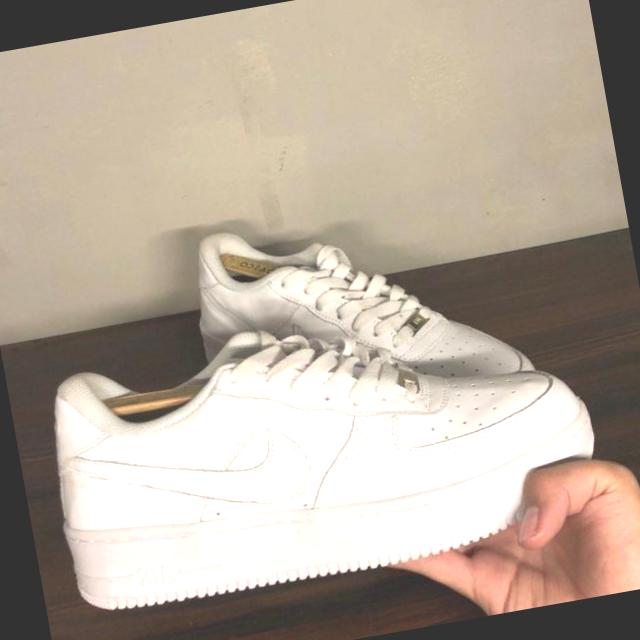nike_fake_airforce: (32, 272, 611, 620), (180, 180, 541, 438)
